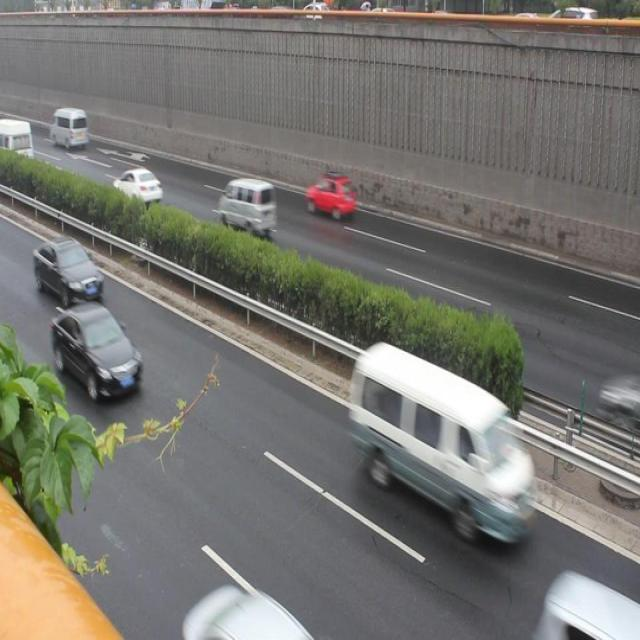car: (48, 300, 147, 409), (29, 234, 108, 309), (303, 169, 358, 223), (110, 163, 165, 210)
truck: (348, 340, 542, 547), (216, 176, 277, 238), (49, 105, 90, 149)
